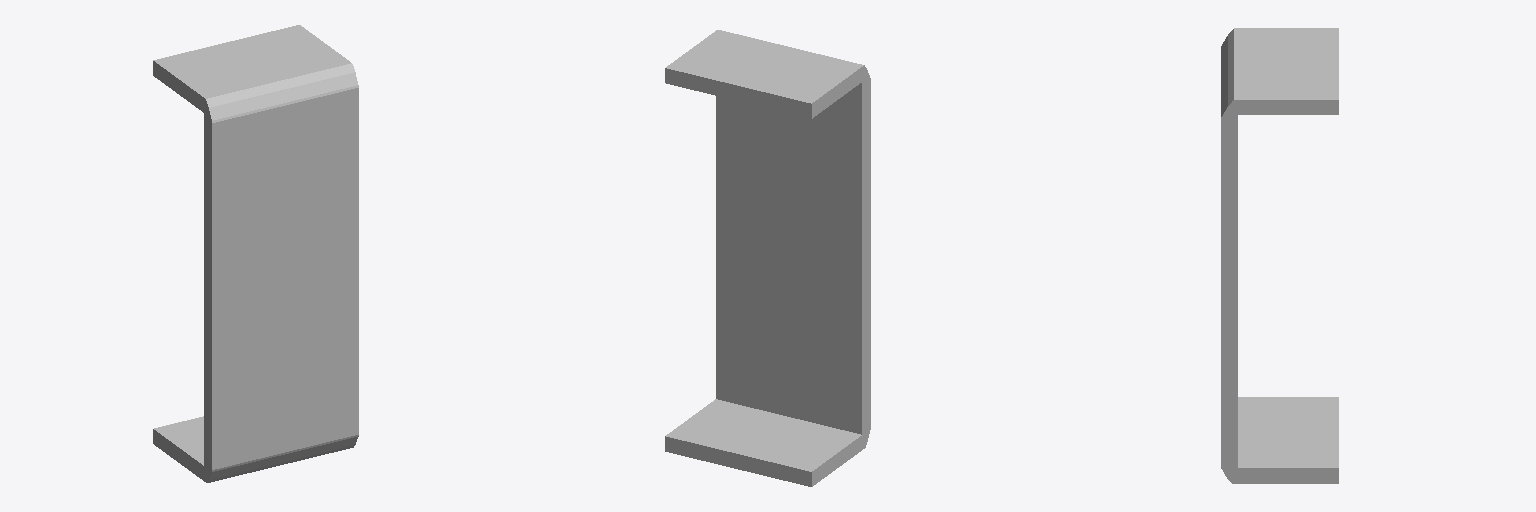
The model's file is coffee.obj.
The picture shows the model from 3 angles: view 1: azimuth 30°, elevation 25°; view 2: azimuth 150°, elevation 25°; view 3: azimuth 270°, elevation 25°; orthographic projection.
Visible parts, largest first — view 1: obj_0; view 2: obj_0; view 3: obj_0.
Boxes of the visible parts, x1=… form: obj_0: x1=153, y1=25, x2=358, y2=482; obj_0: x1=665, y1=30, x2=870, y2=486; obj_0: x1=1221, y1=28, x2=1338, y2=483.
Size of the model in its own units: 20 by 50 by 14.